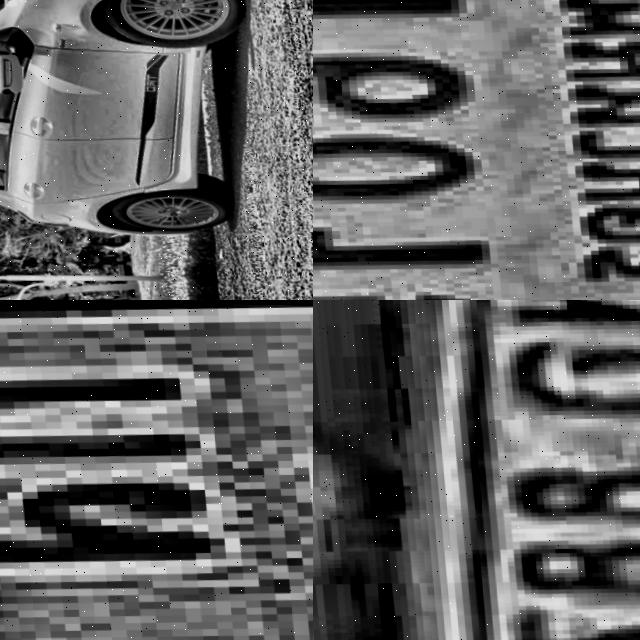license-plate: (0, 300, 313, 640), (313, 0, 640, 300), (365, 300, 640, 640)
